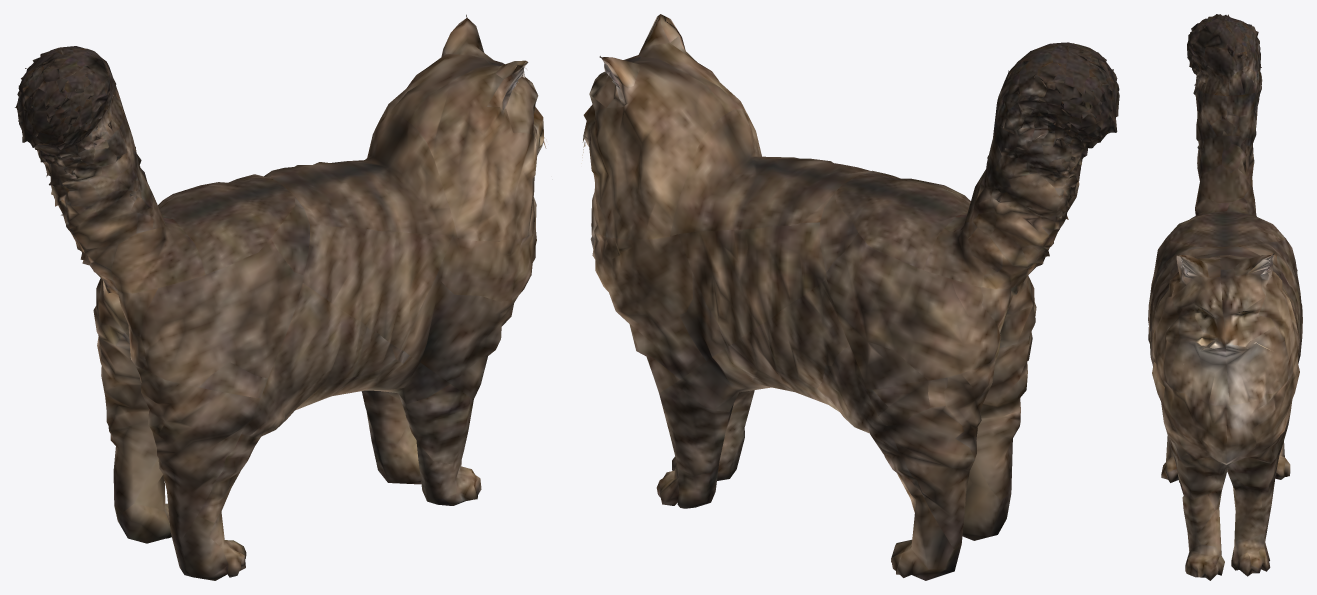
The model's file is YAMANEKO-lo.glb.
3 views of the same model, side by side, from view 1: azimuth 30°, elevation 25°; view 2: azimuth 150°, elevation 25°; view 3: azimuth 270°, elevation 25° (orthographic). The views are drawn at different scales.
Visible parts, largest first — view 1: tripo_node_51bf2ed2-484a-4da8-aa09-3a2d94135ec0; view 2: tripo_node_51bf2ed2-484a-4da8-aa09-3a2d94135ec0; view 3: tripo_node_51bf2ed2-484a-4da8-aa09-3a2d94135ec0.
Boxes of the visible parts, bbox=[...] form: tripo_node_51bf2ed2-484a-4da8-aa09-3a2d94135ec0: bbox=[15, 14, 546, 580]; tripo_node_51bf2ed2-484a-4da8-aa09-3a2d94135ec0: bbox=[581, 14, 1119, 580]; tripo_node_51bf2ed2-484a-4da8-aa09-3a2d94135ec0: bbox=[1148, 14, 1302, 580].
Bounding box in the file's own units: 1.03 × 0.9984 × 0.337.
Materials: 1 (1 with a texture image).
